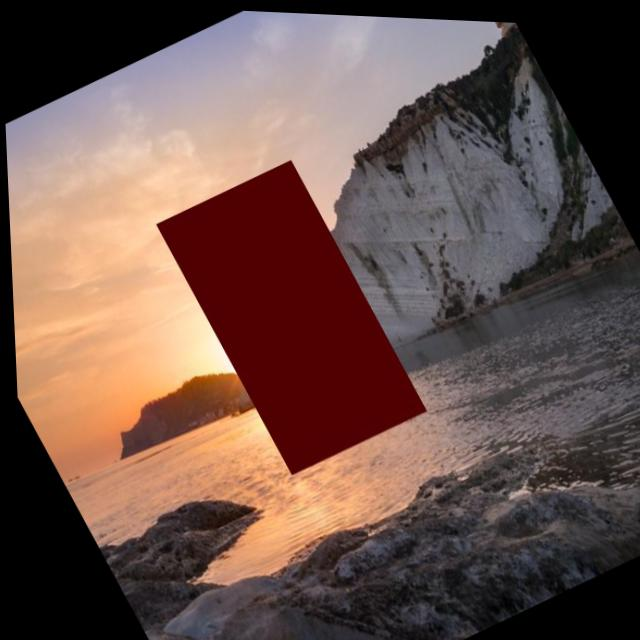RedSquare: (143, 143, 432, 485)
